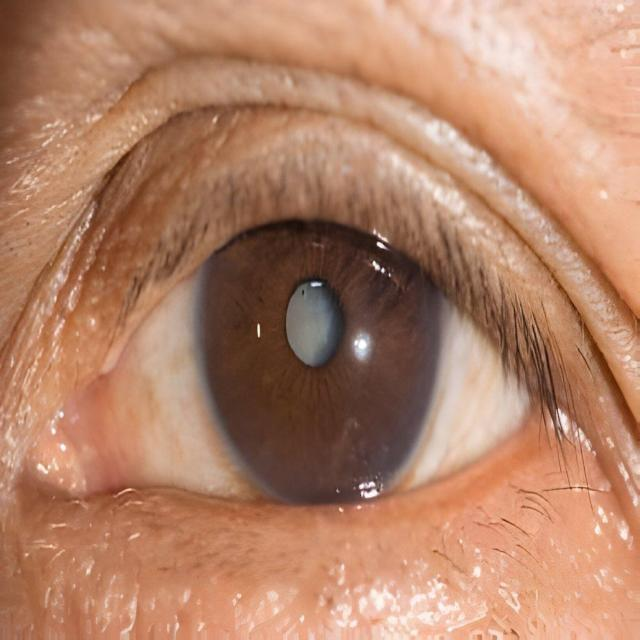Cataract: (195, 214, 434, 442)
